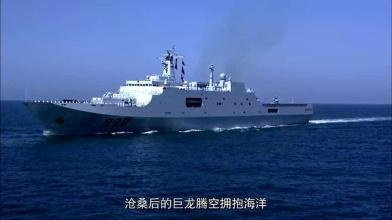warship: (20, 44, 317, 134)
